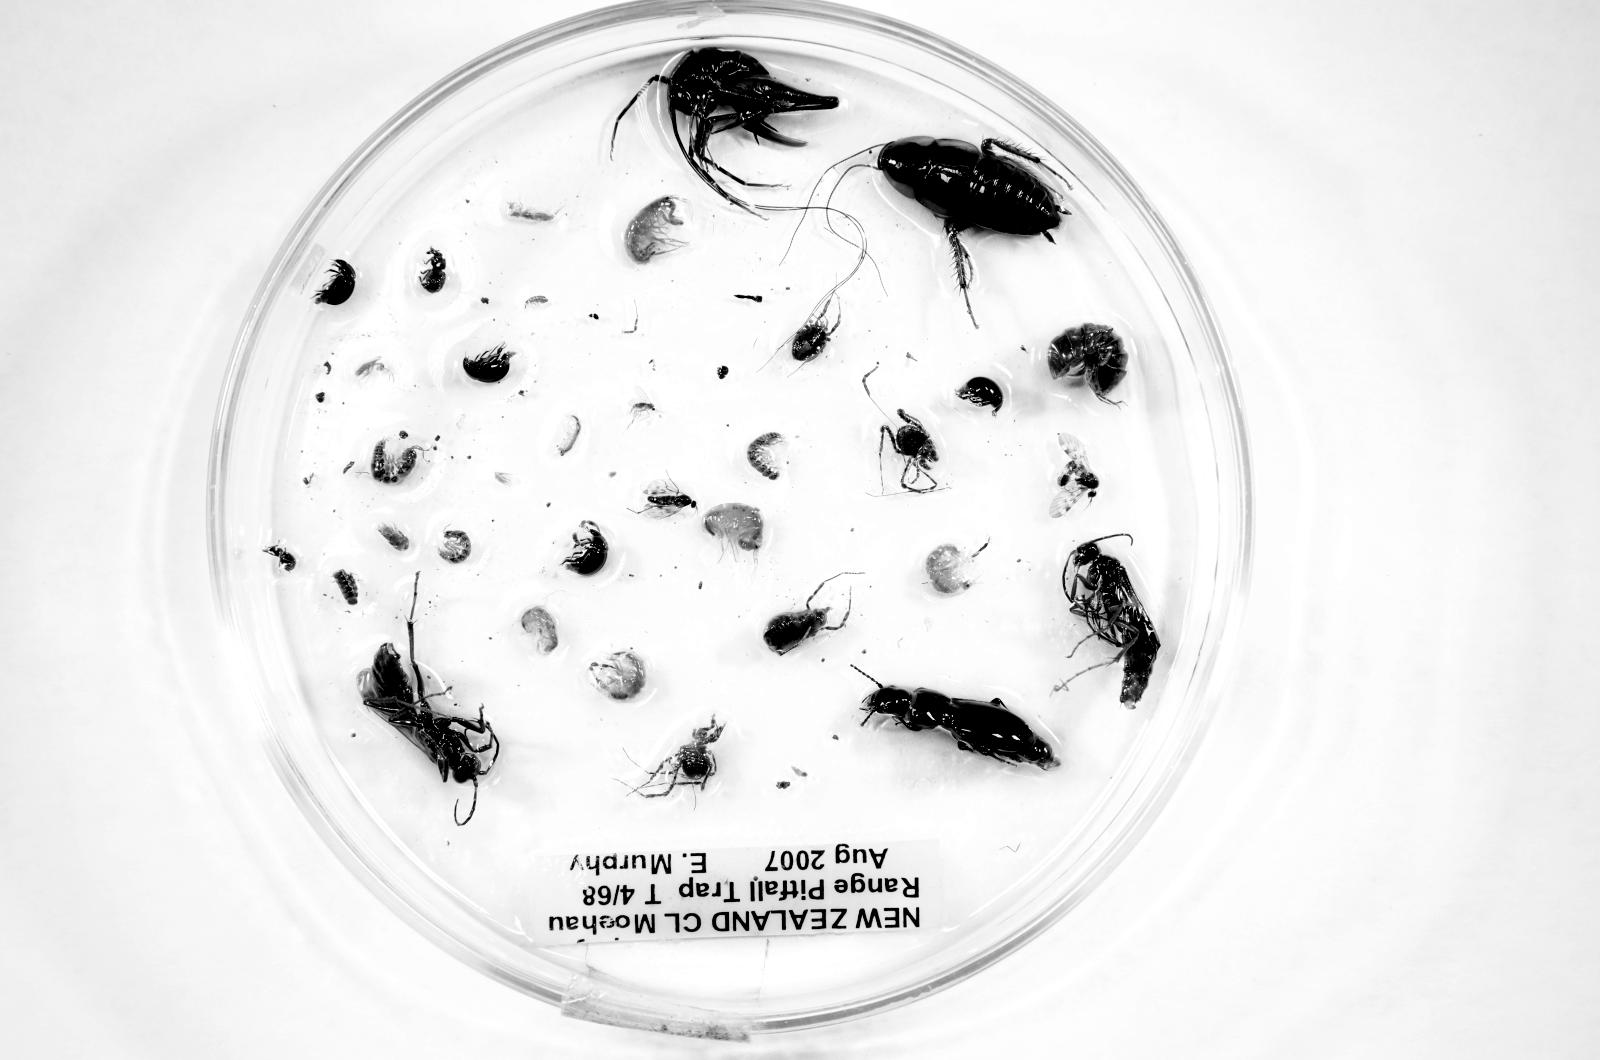amphipoda: (624, 195, 689, 264), (703, 503, 764, 559), (587, 648, 647, 701), (925, 543, 972, 593), (520, 605, 558, 655)
blattodea: (878, 137, 1066, 301)
carabidae: (862, 685, 1059, 770)
coleoptera: (563, 521, 608, 575), (463, 344, 515, 383), (314, 259, 356, 305), (956, 376, 1004, 414), (418, 248, 446, 293), (264, 544, 296, 571), (717, 365, 729, 380)
collembola: (556, 414, 582, 455), (508, 202, 557, 222), (355, 357, 391, 378)
diptera: (1049, 433, 1099, 517), (641, 480, 697, 518), (630, 389, 657, 421)
hymenoptera: (357, 615, 497, 782), (1054, 534, 1160, 708)
isopoda: (1047, 323, 1127, 404), (371, 440, 422, 483), (747, 432, 787, 480), (439, 531, 472, 563)
opiliones: (633, 714, 724, 798), (764, 580, 849, 654), (878, 410, 939, 494), (792, 298, 841, 362)
orthoptera: (651, 48, 839, 214)
